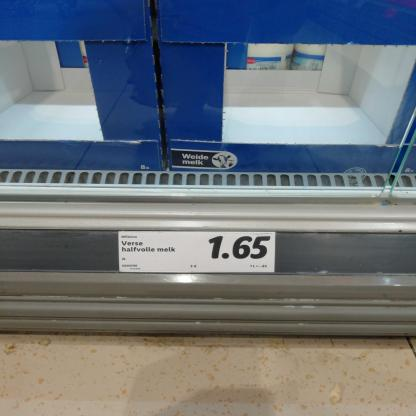prtg: (119, 232, 277, 274)
